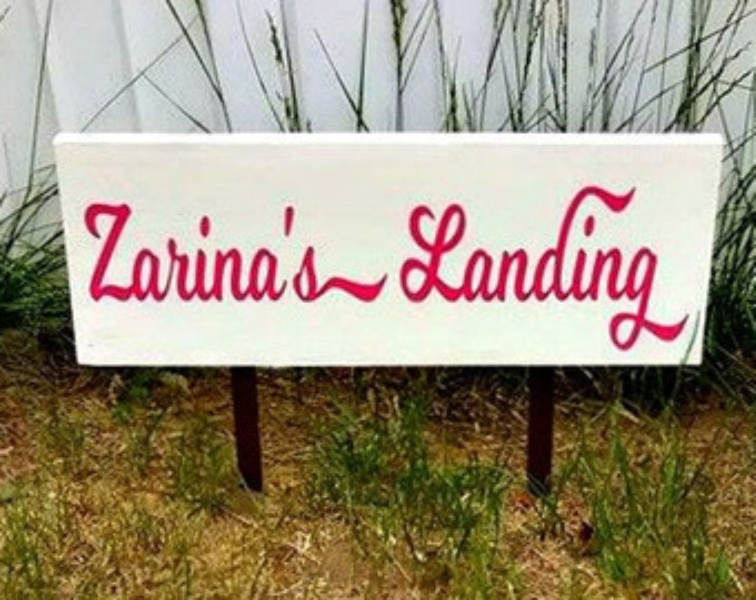text: (417, 176, 432, 361), (433, 176, 448, 361), (449, 176, 464, 361), (465, 176, 480, 361), (481, 176, 496, 361), (497, 176, 512, 361), (513, 176, 528, 361), (529, 176, 544, 361), (545, 176, 560, 361), (561, 176, 576, 361), (577, 176, 592, 361), (593, 176, 608, 361), (609, 176, 624, 361), (625, 176, 640, 361), (641, 176, 656, 361), (657, 176, 672, 361), (673, 176, 688, 361), (403, 176, 416, 361), (305, 203, 321, 303), (97, 203, 112, 303), (113, 203, 128, 303), (129, 203, 144, 303), (145, 203, 160, 303), (161, 203, 176, 303), (177, 203, 192, 303), (193, 203, 208, 303), (209, 203, 224, 303), (225, 203, 240, 303), (241, 203, 256, 303), (257, 203, 272, 303), (273, 203, 288, 303), (289, 203, 304, 303), (85, 203, 96, 303), (689, 176, 692, 361)
